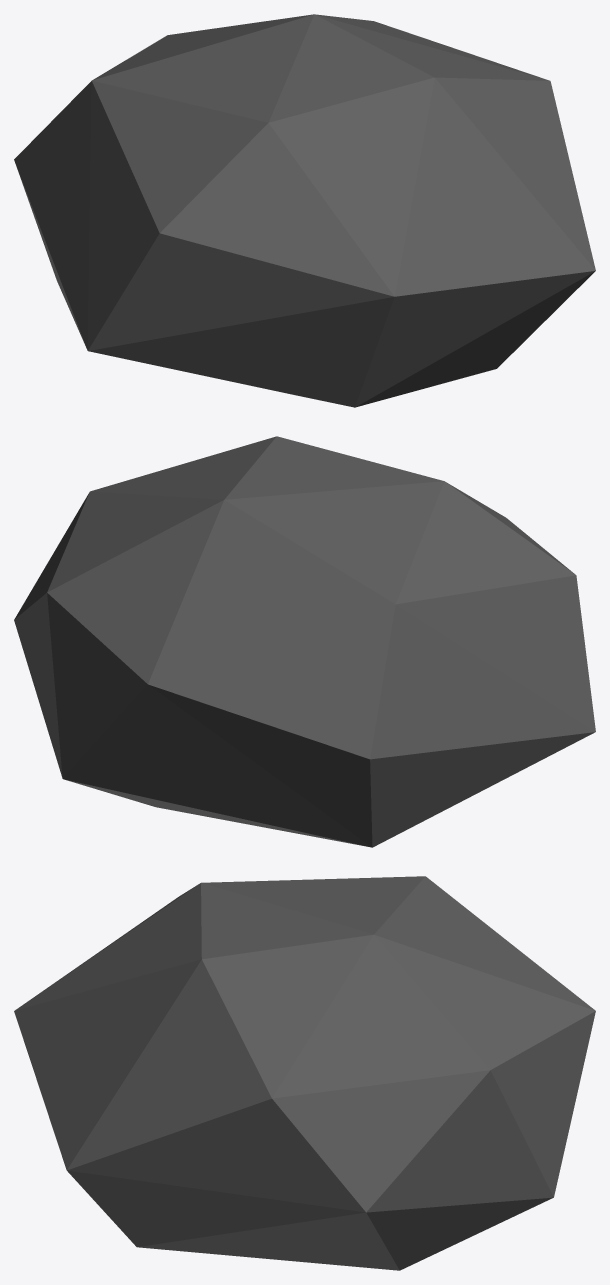
The model's file is rock.glb.
The picture shows the model from 3 angles, top to bottom: view 1: azimuth 30°, elevation 25°; view 2: azimuth 150°, elevation 25°; view 3: azimuth 270°, elevation 25°; orthographic projection.
Parts seen in each view (by area): view 1: ROCK; view 2: ROCK; view 3: ROCK.
Part boxes in pixels (x1=…): ROCK: x1=14, y1=14, x2=595, y2=407; ROCK: x1=14, y1=436, x2=595, y2=847; ROCK: x1=14, y1=876, x2=595, y2=1270.
Size of the model in its own units: 2.13 by 1.29 by 2.11.
Materials: 1 (1 with a texture image).
